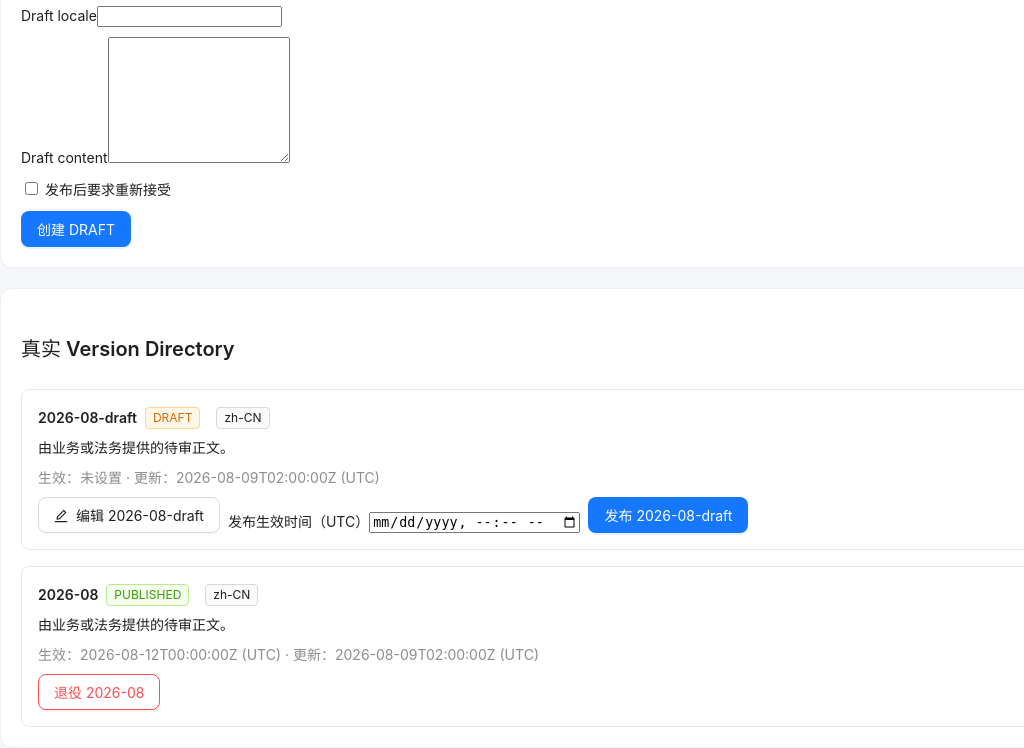
A-BIZ-06C.3 Platform Terms Operations Page › updates only a selected DRAFT and reloads server truth
(page scrolled)
Click the button "编辑 2026-08-draft" at (129, 515), box [38, 497, 220, 533]
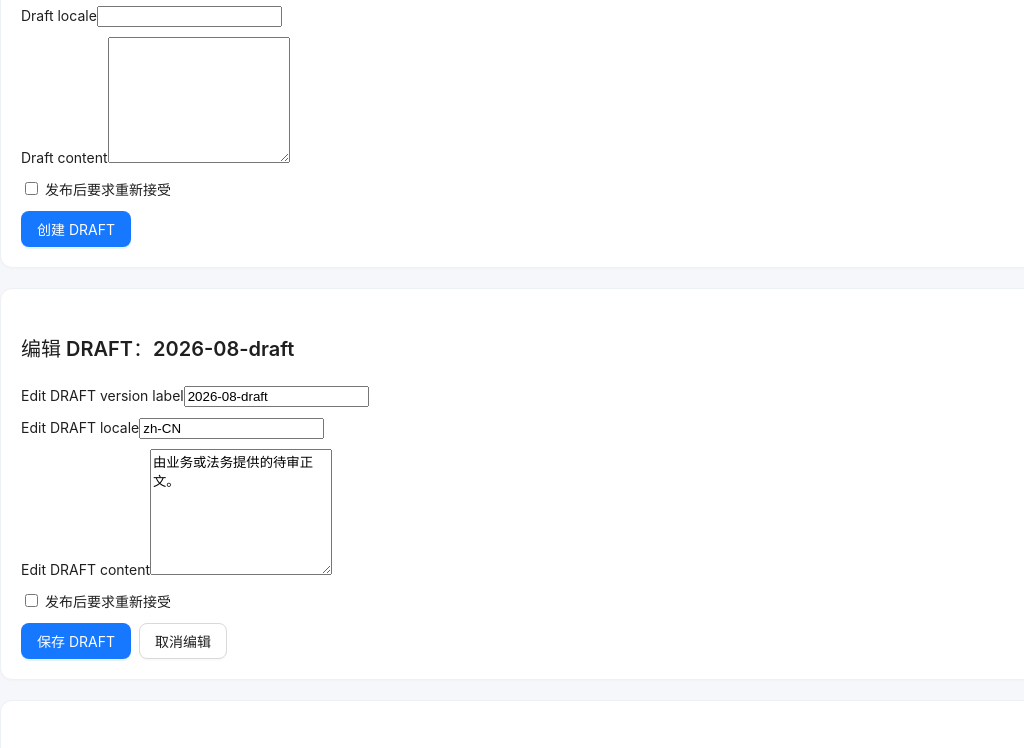
Replace the text in the text box labelled "Edit DRAFT content" with "业务或法务更新后的正文。" at (241, 512), box [150, 449, 332, 575]
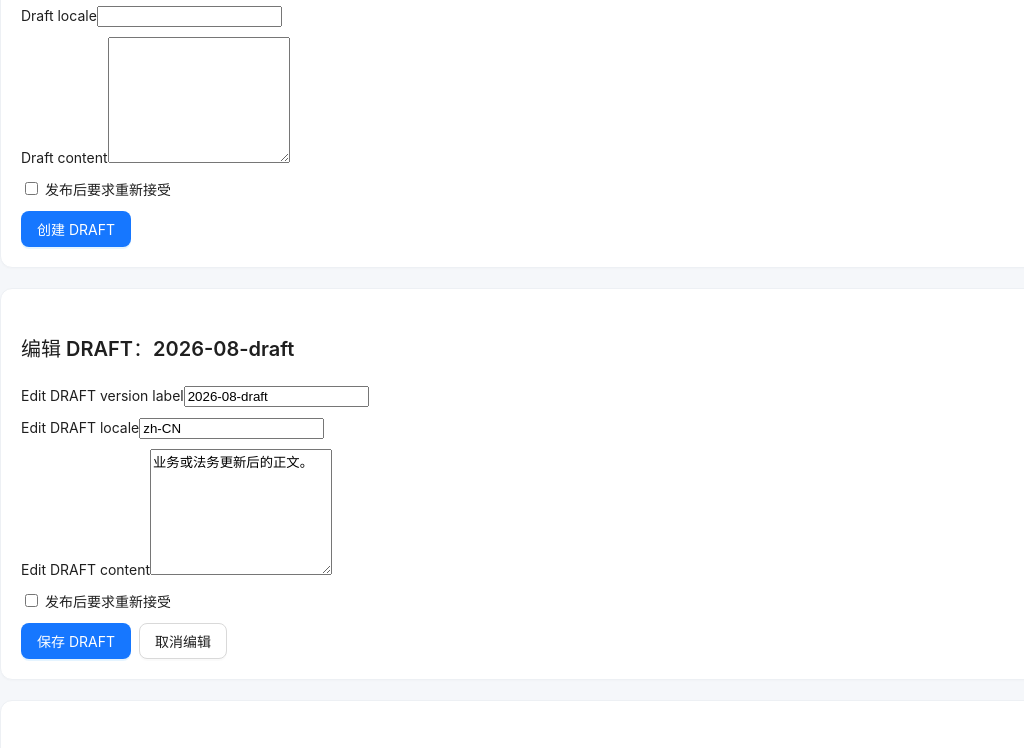
Click the button "保存 DRAFT" at (76, 641), box [21, 623, 131, 659]
(page scrolled)
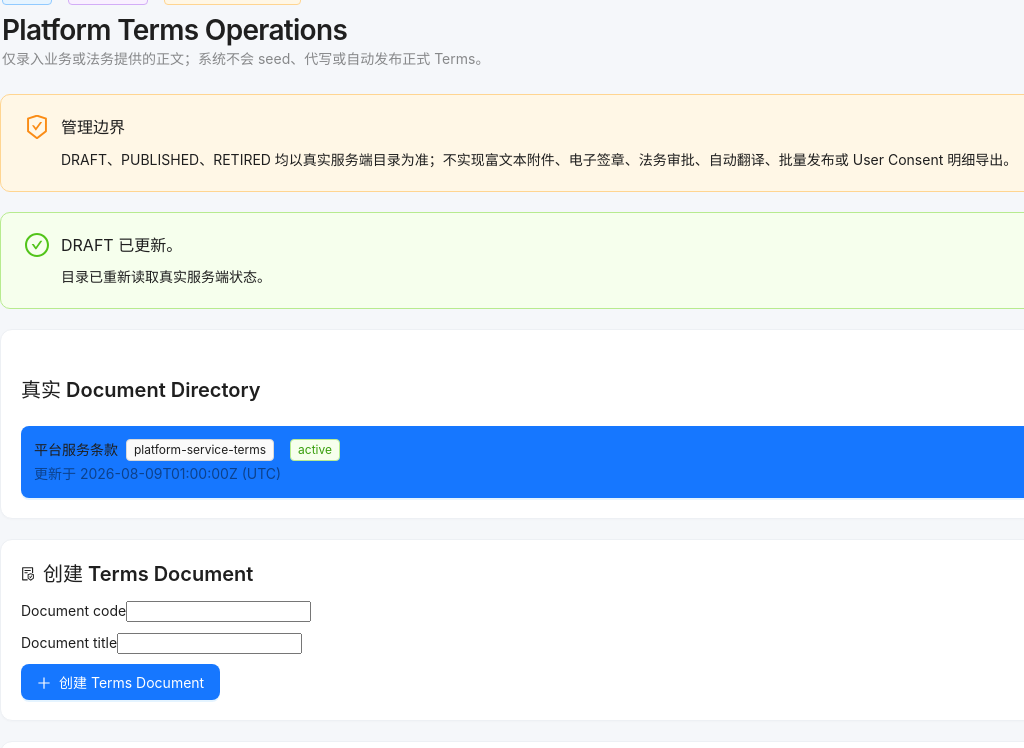
Result: the message with test id "pilot-terms-mutation-success" shows "DRAFT 已更新" at [61, 235, 182, 255]
